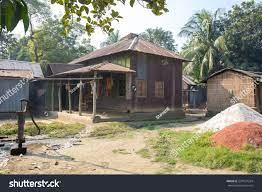Tin-shade House: (45, 29, 189, 124), (193, 64, 260, 122), (1, 50, 45, 113)
